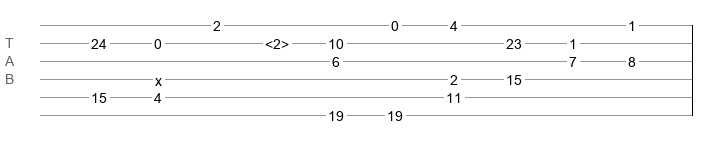0: (154, 36, 162, 46), (391, 18, 399, 28)
1: (569, 36, 577, 46), (628, 18, 636, 28)
10: (328, 36, 344, 46)
11: (446, 90, 462, 100)
15: (91, 90, 107, 100), (506, 72, 522, 82)
19: (328, 108, 344, 118), (387, 108, 403, 118)
2: (213, 18, 221, 28), (450, 72, 458, 82)
23: (506, 36, 522, 46)
24: (91, 36, 107, 46)
4: (154, 90, 162, 100), (450, 18, 458, 28)
6: (332, 54, 340, 64)
7: (569, 54, 577, 64)
8: (628, 54, 636, 64)
harmonic: (265, 36, 289, 46)
x: (155, 73, 162, 81)
